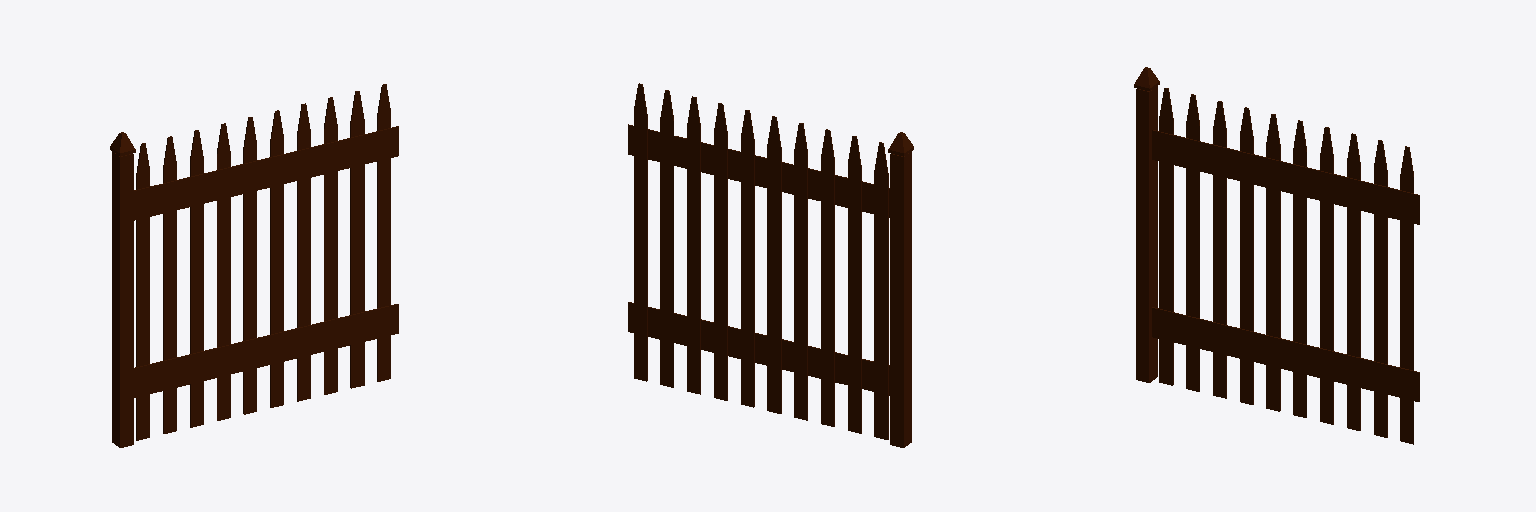
3 views of the same model, side by side, from view 1: azimuth 30°, elevation 25°; view 2: azimuth 150°, elevation 25°; view 3: azimuth 330°, elevation 25° (orthographic).
Visible parts, largest first — view 1: Lowpoly.002_Cube.005; view 2: Lowpoly.002_Cube.005; view 3: Lowpoly.002_Cube.005.
Part boxes in pixels (bbox=[...]): Lowpoly.002_Cube.005: bbox=[110, 84, 398, 447]; Lowpoly.002_Cube.005: bbox=[628, 83, 913, 447]; Lowpoly.002_Cube.005: bbox=[1134, 67, 1419, 444].
Size of the model in its own units: 2 by 2.1 by 0.12.
1 materials, 1 textured.